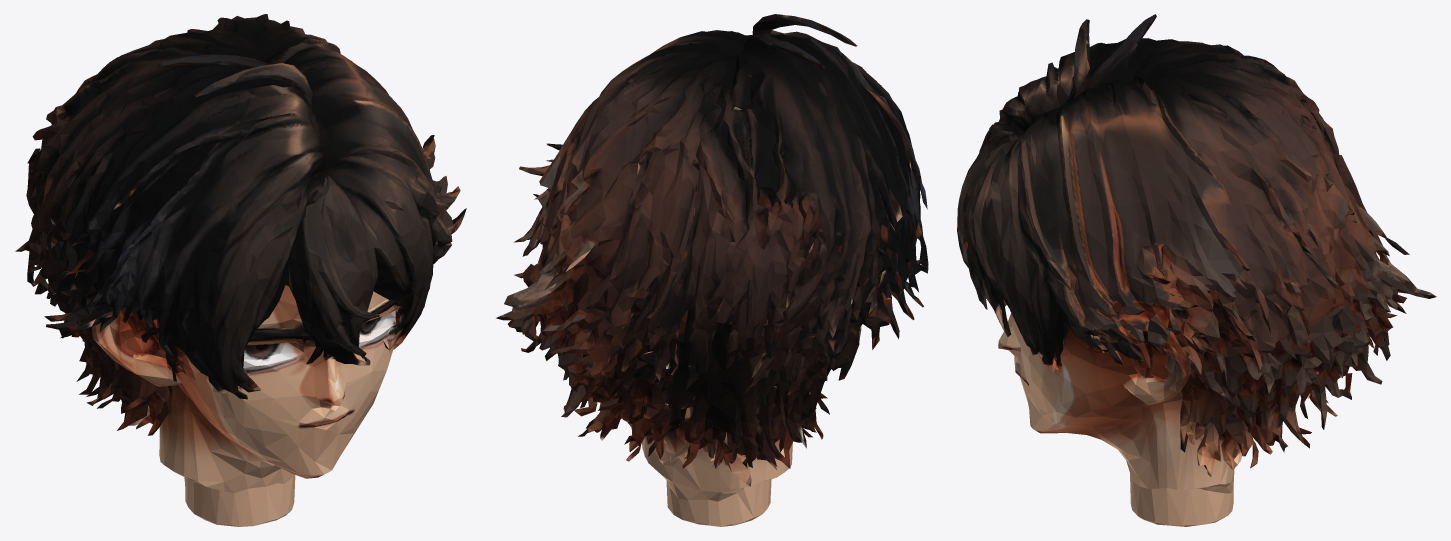
The model's file is side_clerk_repaired_atlas.glb.
3 renders of one model, left to right at view 1: azimuth 30°, elevation 25°; view 2: azimuth 150°, elevation 25°; view 3: azimuth 270°, elevation 25°, orthographic. The views are drawn at different scales.
Visible parts, largest first — view 1: temp_mesh.ply; view 2: temp_mesh.ply; view 3: temp_mesh.ply.
Boxes of the visible parts, x1=… form: temp_mesh.ply: x1=15, y1=14, x2=466, y2=526; temp_mesh.ply: x1=496, y1=14, x2=928, y2=526; temp_mesh.ply: x1=957, y1=14, x2=1436, y2=526.
Size of the model in its own units: 1.26 by 1.43 by 1.37.
Materials: 1 (1 with a texture image).
